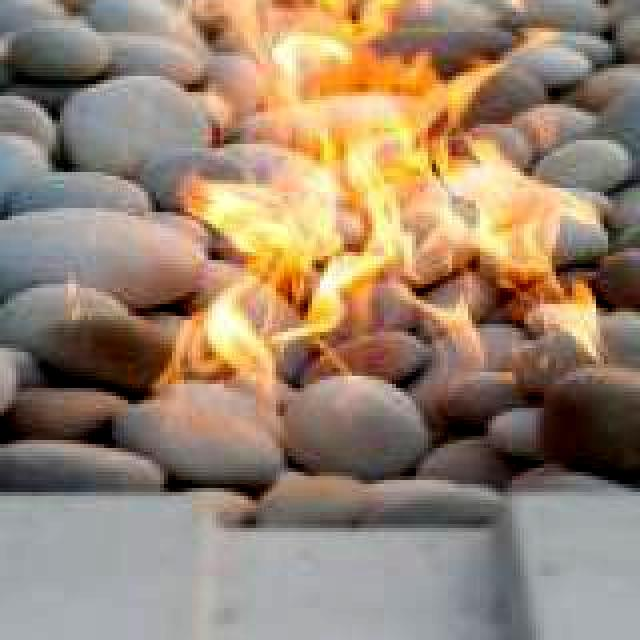fire: (180, 0, 560, 400)
